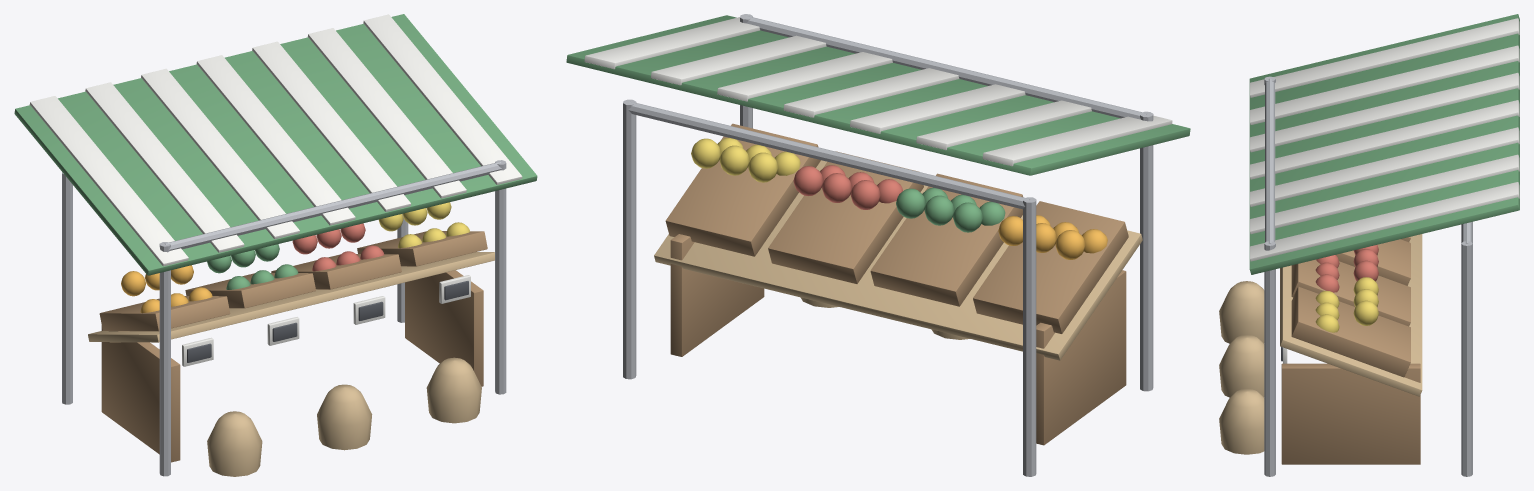
The model's file is th48_obststand.glb.
3 views of the same model, side by side, from view 1: azimuth 30°, elevation 25°; view 2: azimuth 150°, elevation 25°; view 3: azimuth 270°, elevation 25° (orthographic). The views are drawn at different scales.
Visible parts, largest first — view 1: Cube.007, Cube.001, Cube.002, Cube.008, Cube.014, Cube.011, Cube.010, Cube.013, Cube.012, Cube.009, Cube, Cylinder.004 (+10 smaller); view 2: Cube.007, Cube, Cube.001, Cube.003, Cube.004, Cube.005, Cube.006, Cube.002, Cylinder.005, Cylinder.004, Cylinder.001, Cylinder.003 (+18 smaller); view 3: Cube.007, Cube.002, Cube.006, Cube, Cube.014, Cube.012, Cube.011, Cube.009, Cube.010, Cube.013, Cube.008, Cube.005 (+11 smaller).
Boxes of the visible parts, x1,y1,x2,y2 form: Cube.007: [14, 14, 537, 275]; Cube.001: [101, 325, 180, 462]; Cube.002: [405, 270, 483, 386]; Cube.008: [29, 96, 188, 266]; Cube.014: [363, 14, 522, 184]; Cube.011: [196, 55, 355, 225]; Cube.010: [141, 68, 299, 239]; Cube.013: [307, 28, 466, 198]; Cube.012: [252, 41, 410, 211]; Cube.009: [85, 82, 244, 252]; Cube: [88, 252, 494, 342]; Cylinder.004: [165, 162, 501, 250]; Cube.007: [566, 15, 1190, 175]; Cube: [654, 160, 1142, 360]; Cube.001: [1036, 270, 1126, 445]; Cube.003: [973, 201, 1128, 333]; Cube.004: [870, 173, 1022, 306]; Cube.005: [768, 151, 923, 283]; Cube.006: [665, 123, 820, 256]; Cube.002: [670, 234, 764, 356]; Cylinder.005: [628, 101, 1029, 209]; Cylinder.004: [746, 16, 1146, 119]; Cylinder.001: [1023, 197, 1036, 476]; Cylinder.003: [623, 99, 636, 379]; Cube.007: [1249, 14, 1519, 274]; Cube.002: [1281, 363, 1420, 464]; Cube.006: [1291, 286, 1410, 377]; Cube: [1280, 234, 1422, 396]; Cube.014: [1250, 182, 1519, 261]; Cube.012: [1250, 127, 1519, 206]; Cube.011: [1250, 100, 1519, 179]; Cube.009: [1250, 45, 1519, 124]; Cube.010: [1250, 72, 1519, 152]; Cube.013: [1250, 154, 1519, 234]; Cube.008: [1250, 18, 1519, 97]; Cube.005: [1291, 259, 1410, 326].
Size of the model in its own units: 3.9 by 2.73 by 2.6.
